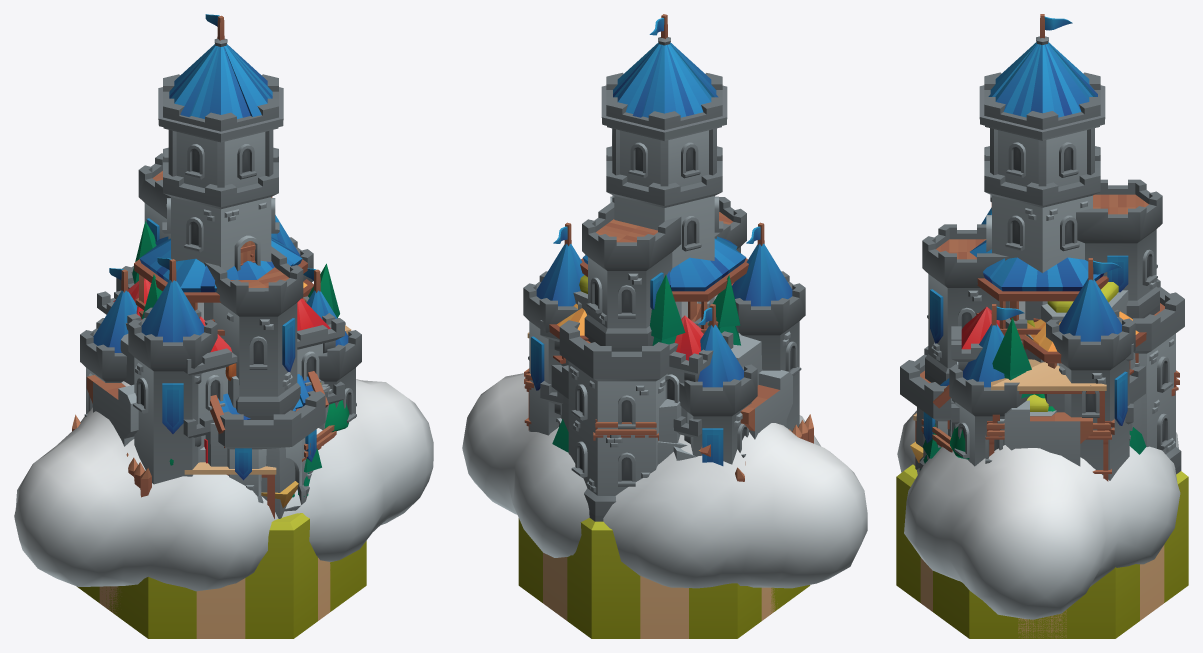
File: kit.glb
3 renders of one model, left to right at view 1: azimuth 30°, elevation 25°; view 2: azimuth 150°, elevation 25°; view 3: azimuth 270°, elevation 25°, orthographic.
Visible parts, largest first — view 1: building_castle_blue, cloud_big, hex_road_G, building_barracks_red, building_tower_B_top_blue, hex_road_D, hex_grass, mountain_C, hex_road_A, mountain_A_grass_trees, building_scaffolding, hex_road_B (+6 smaller); view 2: building_castle_blue, cloud_big, hex_road_C, hex_road_B, building_barracks_red, building_tower_B_top_blue, hex_road_E, mountain_A_grass_trees, mountain_C, wall_straight, building_archeryrange_yellow, building_scaffolding (+5 smaller); view 3: building_castle_blue, cloud_big, hex_road_B, hex_grass, building_tower_B_top_blue, building_scaffolding, wall_straight, hex_road_A, hex_road_E, hex_road_D, building_archeryrange_yellow, building_barracks_red (+7 smaller).
Boxes of the visible parts, left/top/right/bottom form: building_castle_blue: left=80, top=14, right=361, bottom=511; cloud_big: left=14, top=379, right=433, bottom=591; hex_road_G: left=148, top=522, right=293, bottom=638; building_barracks_red: left=97, top=278, right=344, bottom=463; building_tower_B_top_blue: left=134, top=236, right=307, bottom=341; hex_road_D: left=290, top=513, right=330, bottom=638; hex_grass: left=77, top=513, right=366, bottom=638; mountain_C: left=120, top=334, right=327, bottom=518; hex_road_A: left=80, top=519, right=366, bottom=626; mountain_A_grass_trees: left=132, top=221, right=339, bottom=430; building_scaffolding: left=184, top=325, right=351, bottom=518; hex_road_B: left=80, top=513, right=366, bottom=638; building_castle_blue: left=523, top=14, right=805, bottom=521; cloud_big: left=462, top=373, right=867, bottom=588; hex_road_C: left=591, top=521, right=756, bottom=638; hex_road_B: left=543, top=518, right=759, bottom=638; building_barracks_red: left=540, top=283, right=733, bottom=443; building_tower_B_top_blue: left=580, top=236, right=748, bottom=333; hex_road_E: left=518, top=518, right=773, bottom=624; mountain_A_grass_trees: left=650, top=274, right=740, bottom=465; mountain_C: left=562, top=333, right=762, bottom=443; wall_straight: left=741, top=370, right=792, bottom=438; building_archeryrange_yellow: left=549, top=303, right=710, bottom=456; building_scaffolding: left=524, top=332, right=658, bottom=440; building_castle_blue: left=900, top=14, right=1184, bottom=480; cloud_big: left=897, top=410, right=1180, bottom=619; hex_road_B: left=906, top=465, right=1188, bottom=638; hex_grass: left=896, top=464, right=1188, bottom=638; building_tower_B_top_blue: left=970, top=240, right=1108, bottom=349; building_scaffolding: left=913, top=359, right=1179, bottom=481; wall_straight: left=1004, top=400, right=1092, bottom=460; hex_road_A: left=905, top=465, right=1188, bottom=638; hex_road_E: left=971, top=547, right=1164, bottom=638; hex_road_D: left=896, top=466, right=932, bottom=611; building_archeryrange_yellow: left=1019, top=311, right=1146, bottom=440; building_barracks_red: left=951, top=307, right=1133, bottom=424.
Bounding box in the file's own units: 3.61 × 4.98 × 2.31.
Materials: 1 (1 with a texture image).
